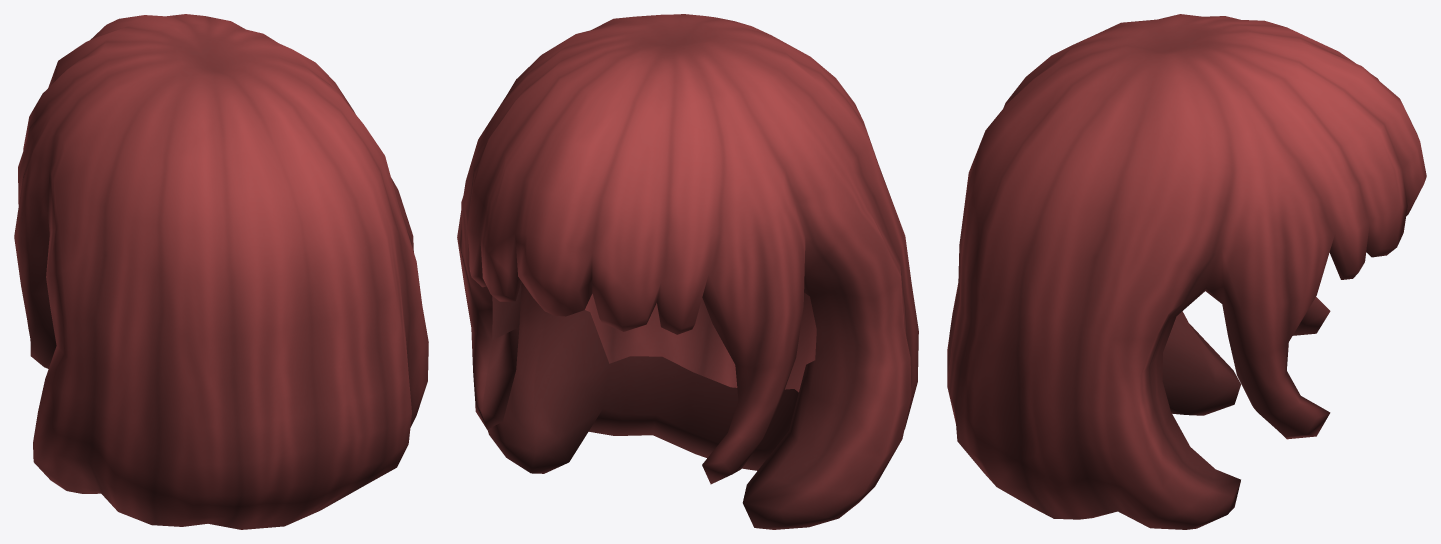
Rendered from Hair_Female_001_textured_red.glb.
3 views of the same model, side by side, from view 1: azimuth 30°, elevation 25°; view 2: azimuth 150°, elevation 25°; view 3: azimuth 270°, elevation 25° (orthographic). The views are drawn at different scales.
Parts seen in each view (by area): view 1: Hair_Female_001; view 2: Hair_Female_001; view 3: Hair_Female_001.
Boxes of the visible parts, x1,y1,x2,y2 form: Hair_Female_001: [14, 14, 428, 529]; Hair_Female_001: [457, 14, 918, 529]; Hair_Female_001: [947, 14, 1426, 529].
Size of the model in its own units: 0.2205 by 0.2446 by 0.236.
1 material, 1 textured.
